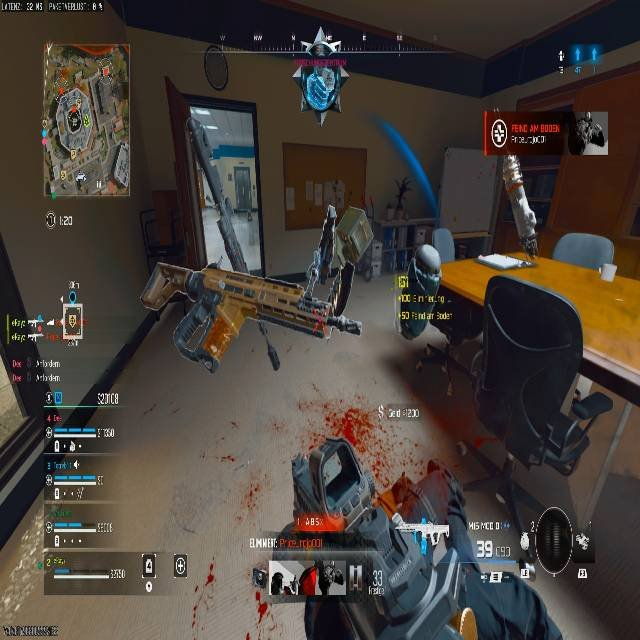head: (291, 436, 375, 528)
player: (256, 434, 434, 639), (502, 156, 539, 261), (315, 206, 341, 258)
